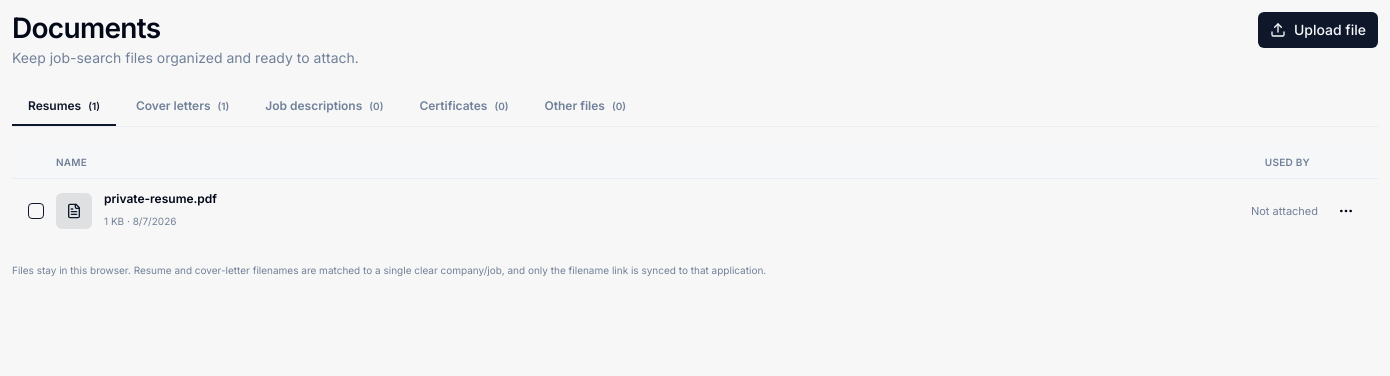
Documents › selects a resume and cover letter together for one manual attachment
Later steps or results of the test are not shown.
Click the checkbox named "Select private-resume.pdf" at [36, 211], box [28,203,44,219]
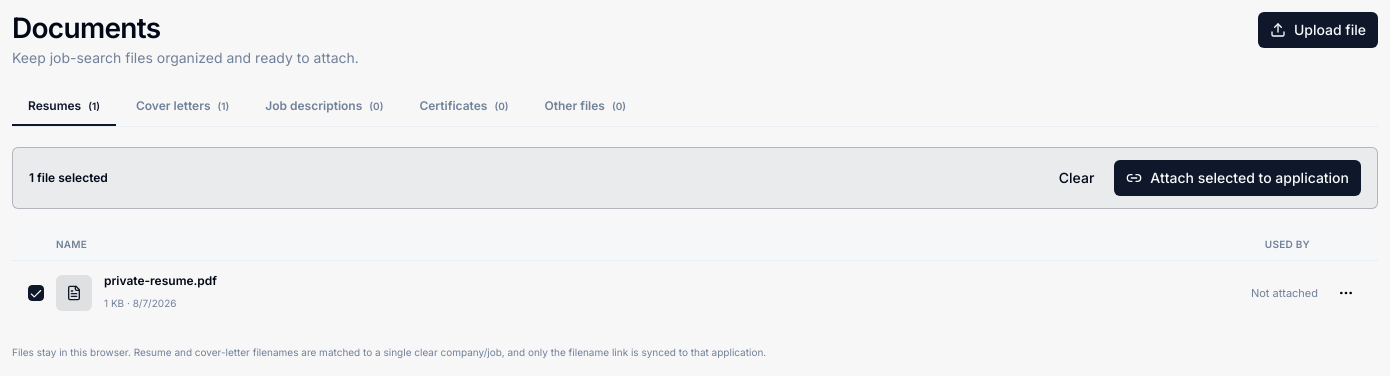
Click the tab "Cover letters (1)" at [183, 107], box [120,88,245,126]
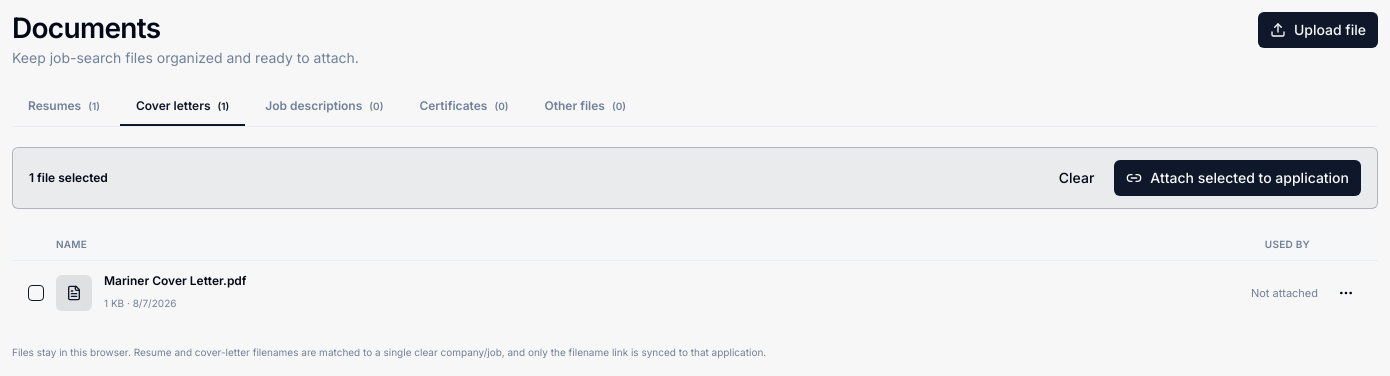
Click the checkbox named "Select Mariner Cover Letter.pdf" at [36, 293], box [28,285,44,301]
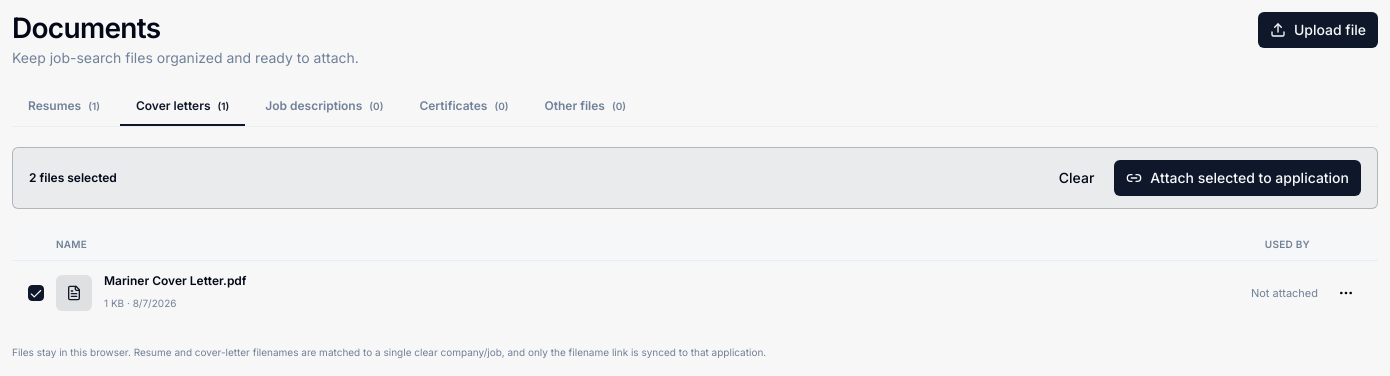
Expected: the text "2 files selected" is shown, [29,170,117,186]
